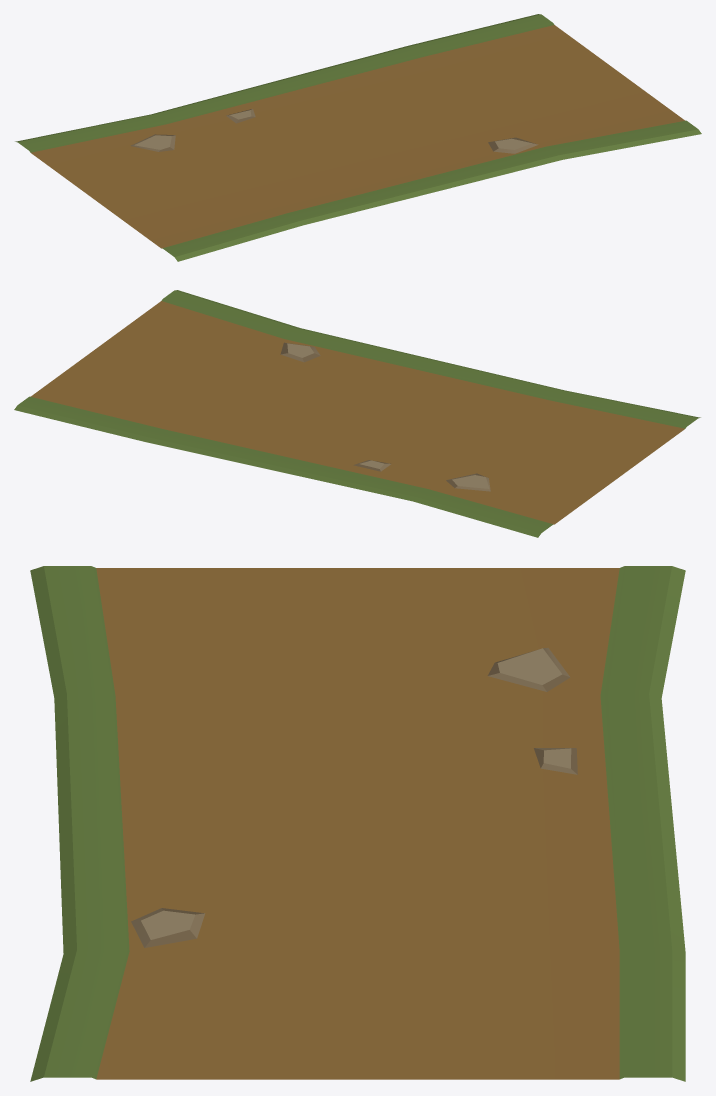
Rendered from Path_Straight.gltf.
The picture shows the model from 3 angles, top to bottom: view 1: azimuth 30°, elevation 25°; view 2: azimuth 150°, elevation 25°; view 3: azimuth 270°, elevation 25°; orthographic projection. The views are drawn at different scales.
Parts seen in each view (by area): view 1: SF_Env_Path_Straight_01; view 2: SF_Env_Path_Straight_01; view 3: SF_Env_Path_Straight_01.
Part boxes in pixels (bbox=[...]): SF_Env_Path_Straight_01: bbox=[15, 14, 701, 261]; SF_Env_Path_Straight_01: bbox=[14, 290, 700, 537]; SF_Env_Path_Straight_01: bbox=[30, 566, 685, 1081].
Size of the model in its own units: 0.1 by 0.000509 by 0.0542.
1 material, 1 textured.
